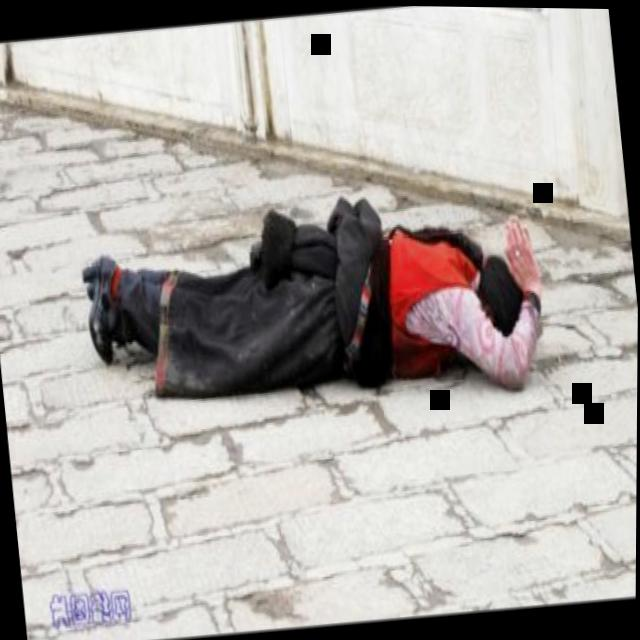Fall-Detected: (67, 155, 557, 430)
